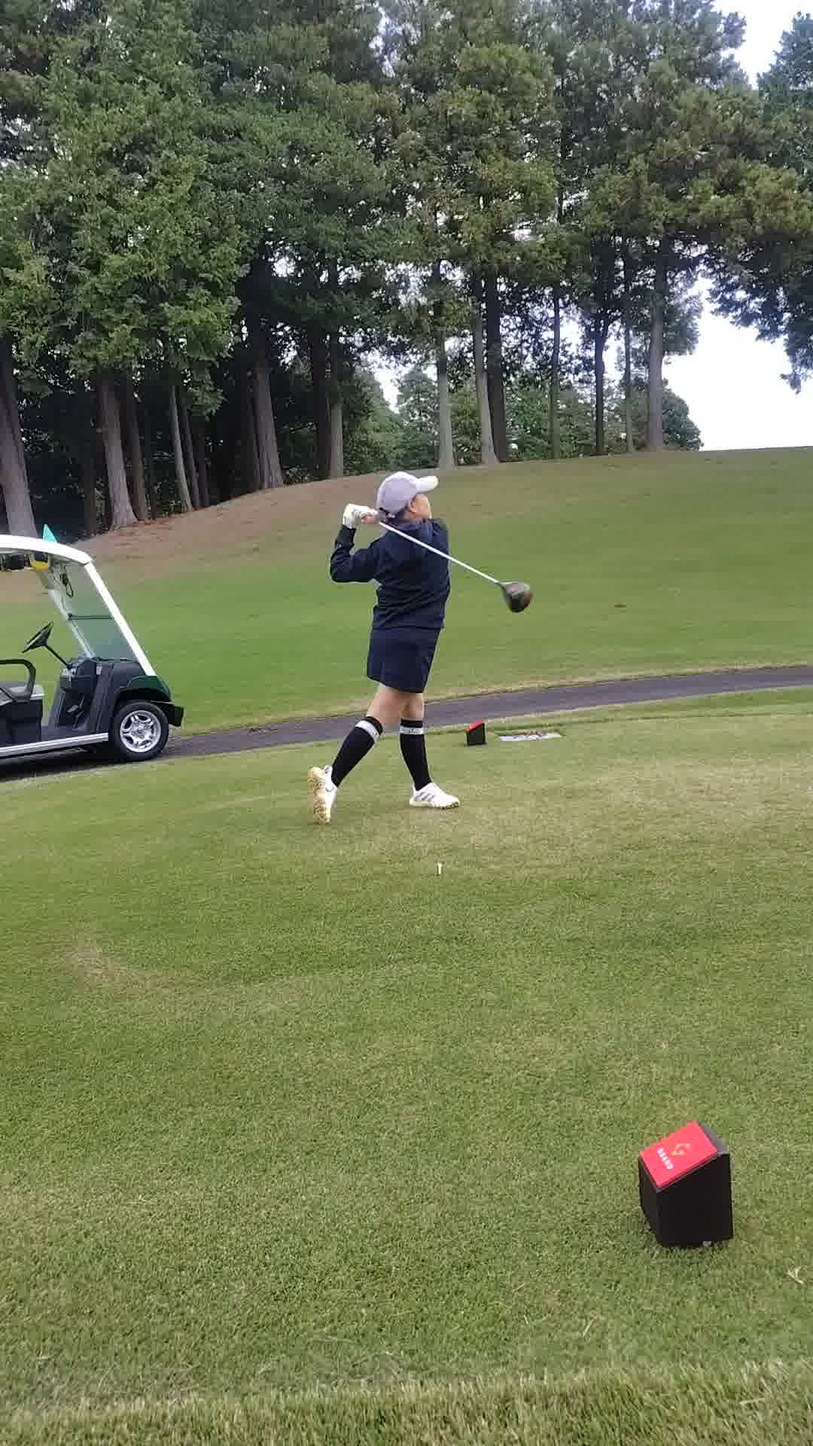clubhead: (459, 545, 573, 656)
